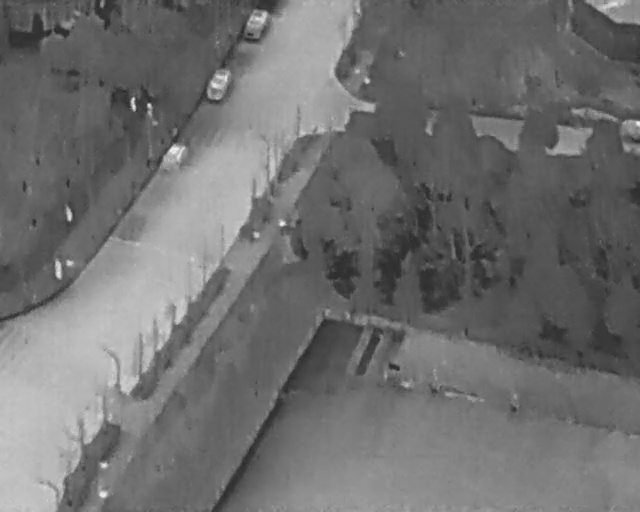Car: (201, 63, 233, 105), (240, 6, 270, 44)
Person: (53, 258, 63, 281), (128, 94, 138, 114), (65, 202, 73, 222)
